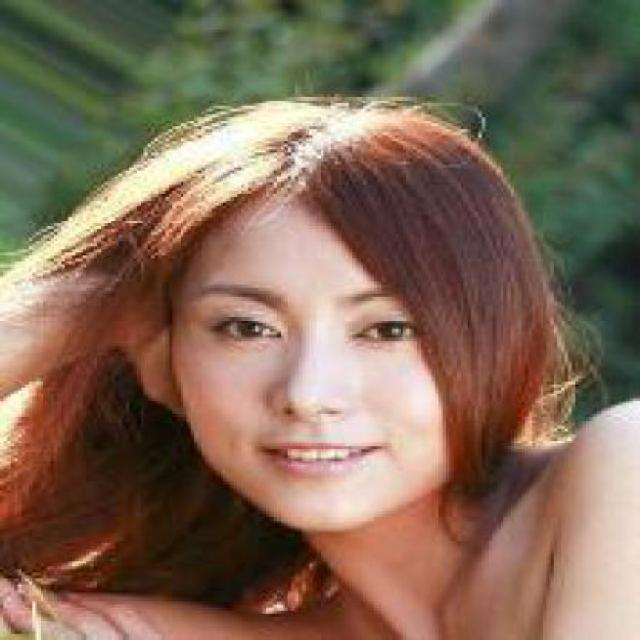closed-mouth: (260, 439, 376, 470)
